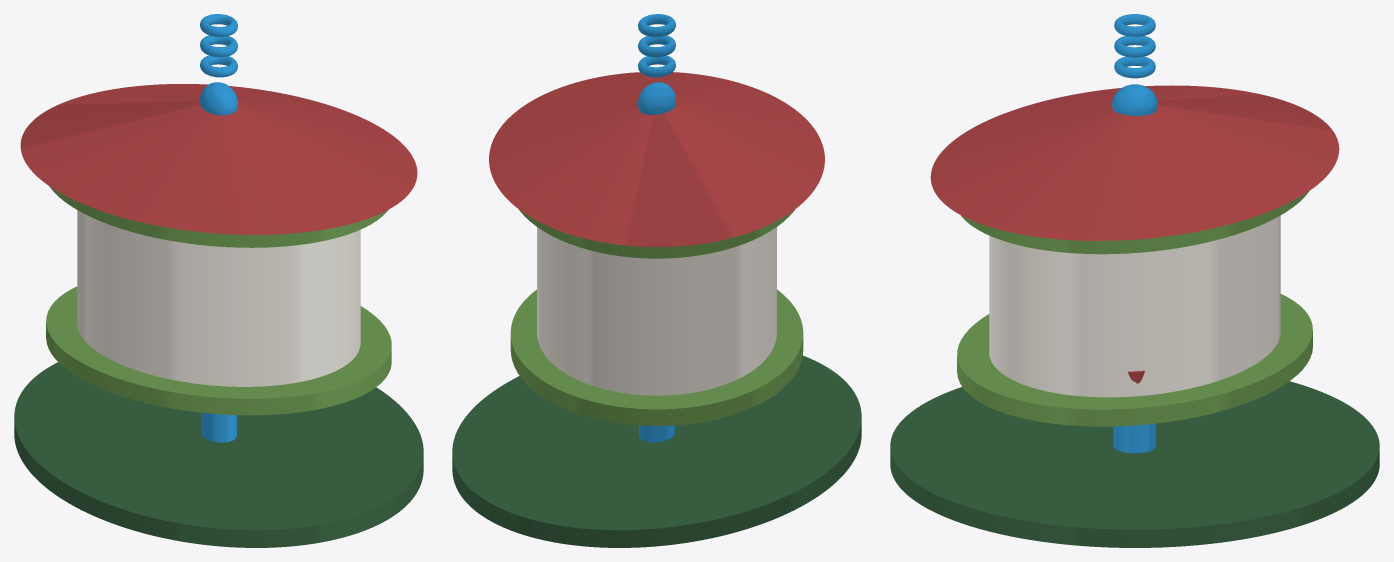
Rendered from 0648_四大发明图鉴_纸帘.glb.
3 renders of one model, left to right at view 1: azimuth 30°, elevation 25°; view 2: azimuth 150°, elevation 25°; view 3: azimuth 270°, elevation 25°, orthographic. The views are drawn at different scales.
Visible parts, largest first — view 1: card_0648; view 2: card_0648; view 3: card_0648.
Boxes of the visible parts, x1,y1,x2,y2 form: card_0648: [14, 14, 423, 547]; card_0648: [452, 14, 861, 547]; card_0648: [890, 14, 1379, 547].
Bounding box in the file's own units: 0.8087 × 1 × 0.9998.
